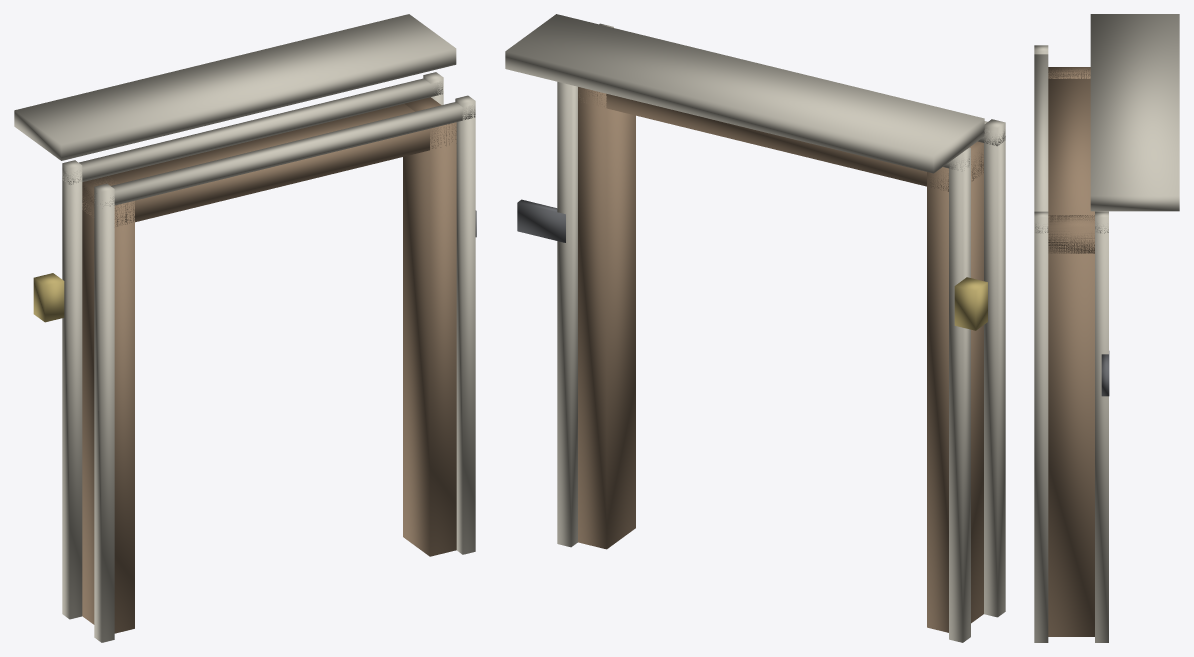
File: doorway_motel_w152_h200_d24.glb
3 renders of one model, left to right at view 1: azimuth 30°, elevation 25°; view 2: azimuth 150°, elevation 25°; view 3: azimuth 270°, elevation 25°, orthographic. The views are drawn at different scales.
Visible parts, largest first — view 1: world; view 2: world; view 3: world.
Boxes of the visible parts, x1=… form: world: x1=14, y1=14, x2=476, y2=642; world: x1=505, y1=14, x2=1005, y2=642; world: x1=1034, y1=14, x2=1179, y2=642.
Size of the model in its own units: 2.22 by 2.36 by 0.6858.
